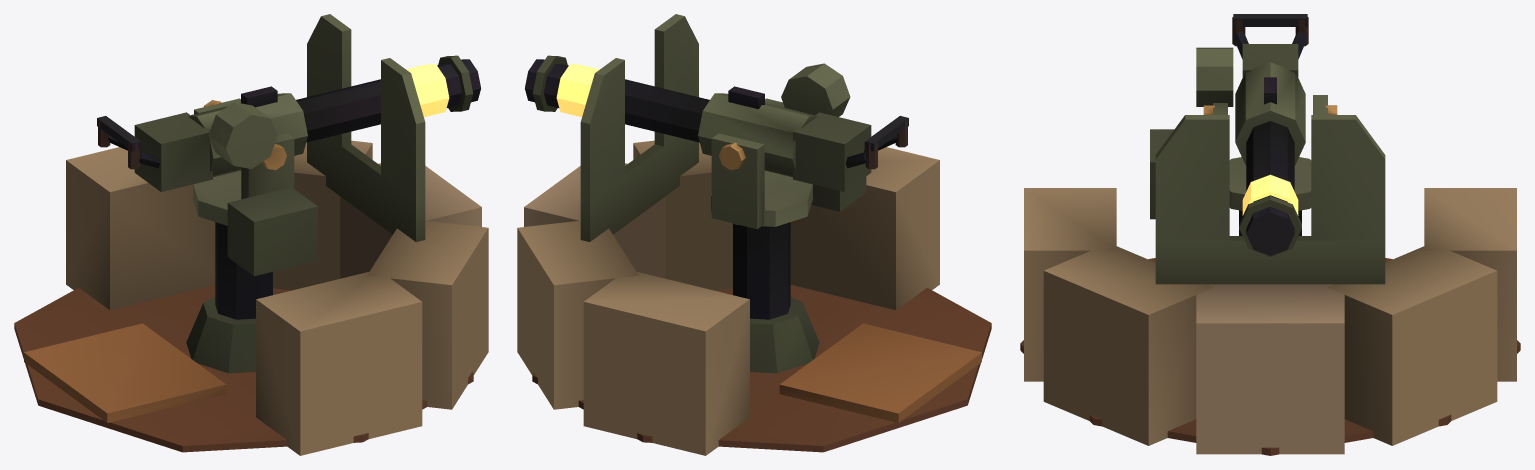
The model's file is wpn.minigun-mounted.lod2.glb.
3 views of the same model, side by side, from view 1: azimuth 30°, elevation 25°; view 2: azimuth 150°, elevation 25°; view 3: azimuth 270°, elevation 25° (orthographic). The views are drawn at different scales.
Parts seen in each view (by area): view 1: body, pivot, elevation, barrels, heatGlow; view 2: body, pivot, elevation, barrels, heatGlow; view 3: body, pivot, elevation, barrels, heatGlow.
Part boxes in pixels (box(x1,y1,x2,y2)): body: box(14, 140, 488, 455); pivot: box(193, 14, 425, 276); elevation: box(97, 86, 307, 191); barrels: box(296, 55, 480, 142); heatGlow: box(406, 64, 449, 117); body: box(517, 140, 991, 455); pivot: box(580, 14, 866, 241); elevation: box(698, 63, 908, 191); barrels: box(525, 55, 709, 142); heatGlow: box(556, 64, 599, 117); body: box(1020, 188, 1520, 455); pivot: box(1150, 95, 1385, 284); elevation: box(1196, 14, 1308, 164); barrels: box(1239, 121, 1301, 256); heatGlow: box(1242, 174, 1298, 215).
Size of the model in its own units: 2.83 by 1.76 by 2.7.
